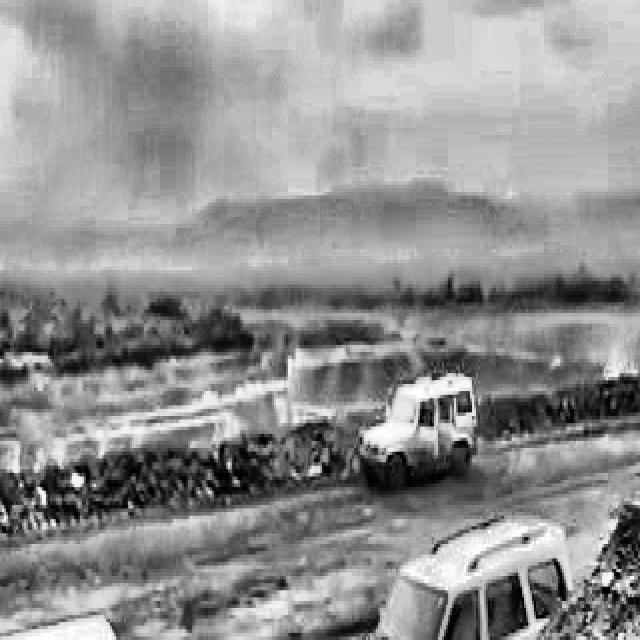light_vehicle: (348, 502, 581, 640), (365, 368, 473, 468)
